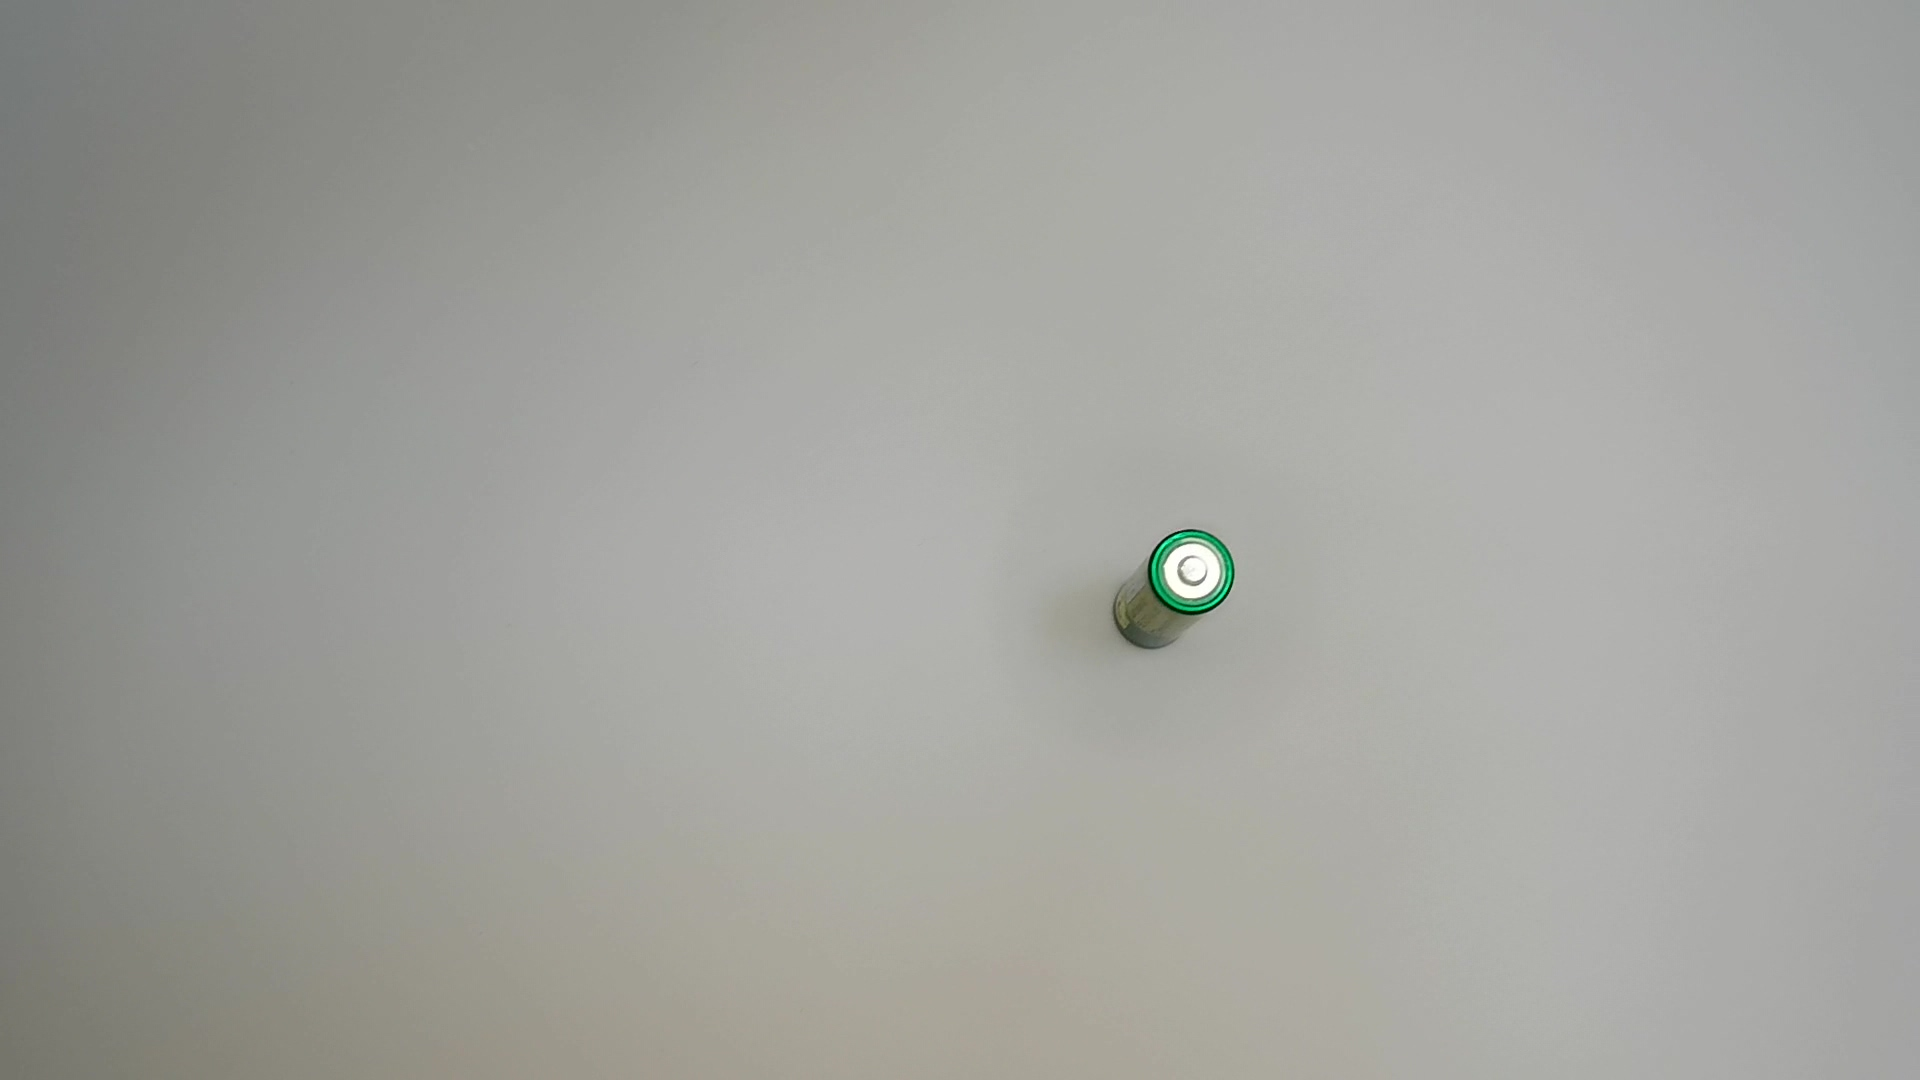battery: (1110, 527, 1238, 663)
